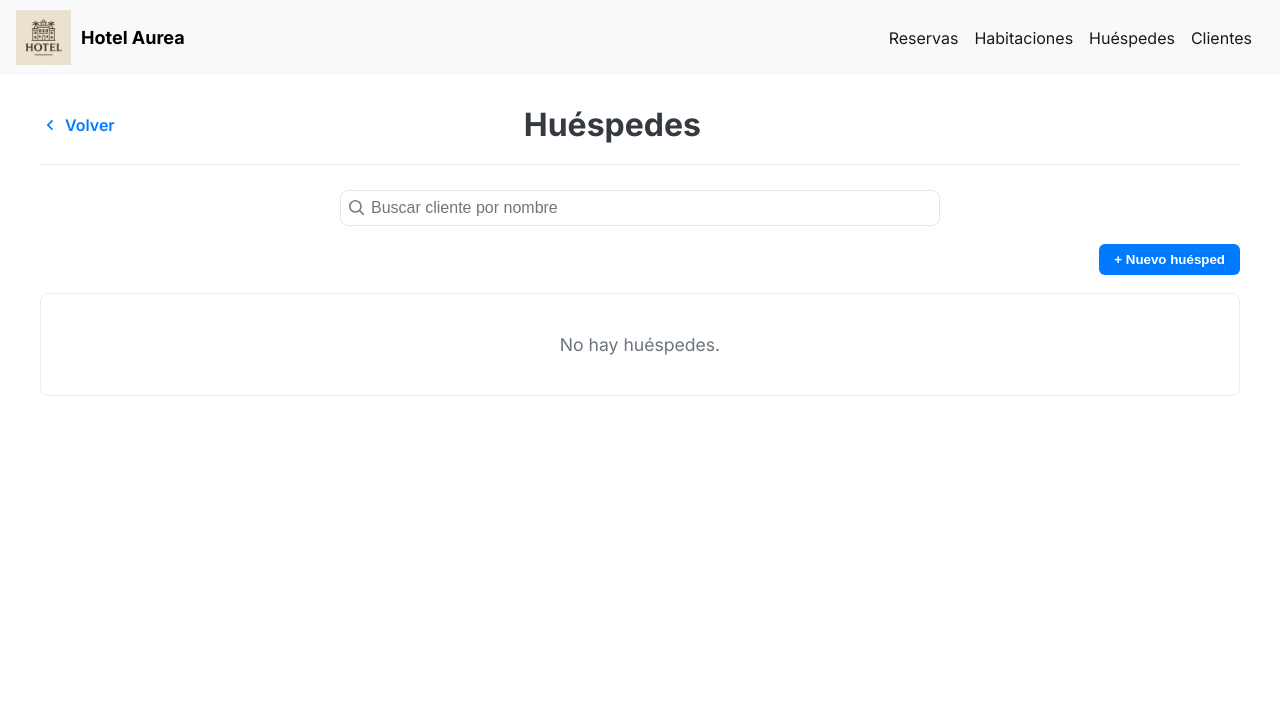
Test case: Navegación y Smoke Tests › Debe navegar a Nuevo Huésped
What coordinates should you click on to do the following:
click the button "+ Nuevo huésped"
I would click on:
 (1170, 260)
Its box is left=1099, top=244, right=1240, bottom=275.
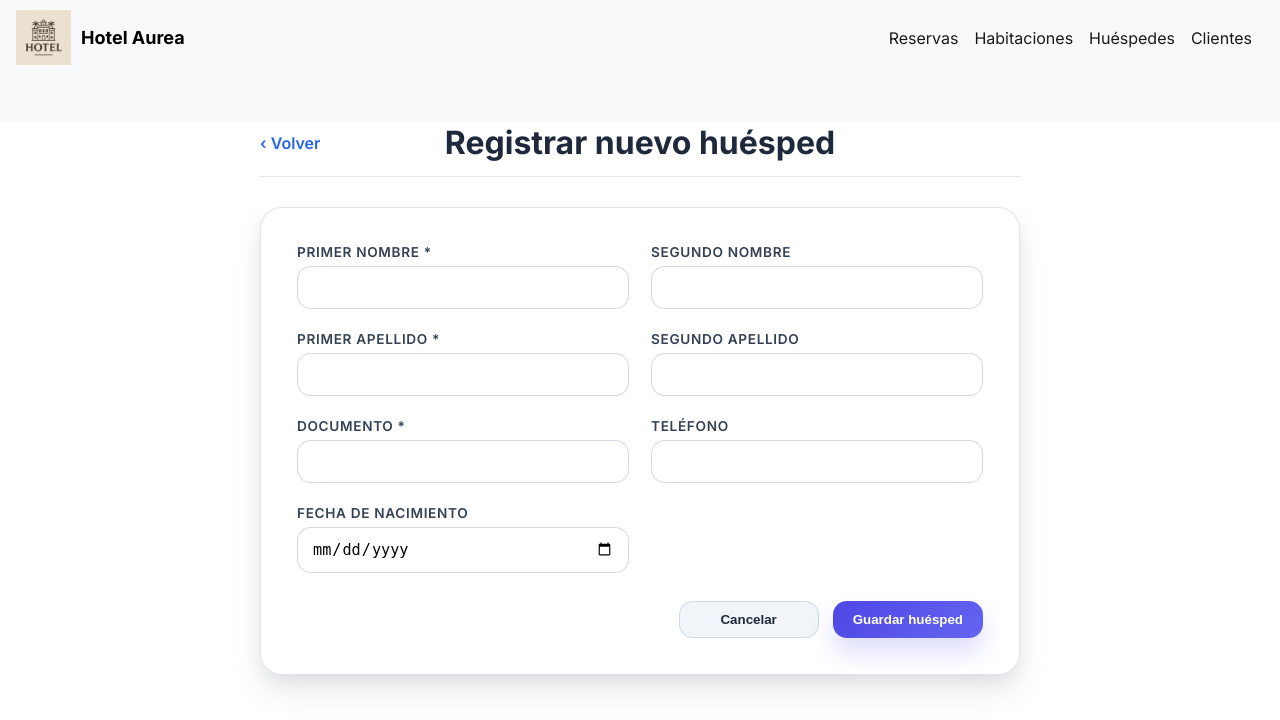
expect the form is shown: met, box left=260, top=207, right=1020, bottom=675
expect the field named "primerNombre" is shown: met, box left=297, top=266, right=629, bottom=309
expect the field named "primerApellido" is shown: met, box left=297, top=353, right=629, bottom=396
